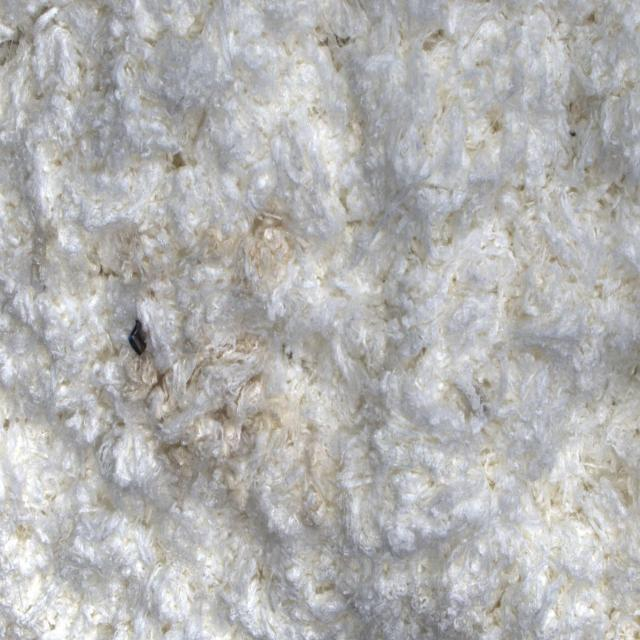dust: (120, 309, 161, 362)
